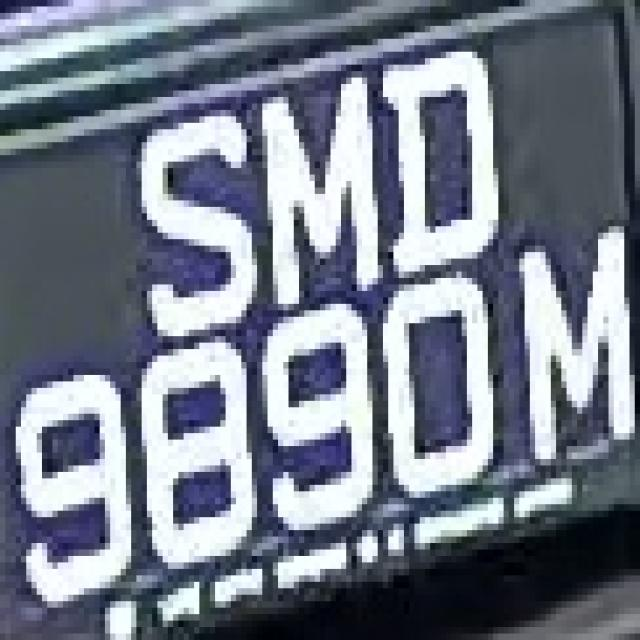0: (372, 258, 509, 524)
8: (126, 342, 262, 582)
9: (0, 349, 152, 621), (252, 291, 388, 536)
D: (378, 45, 509, 291)
M: (509, 226, 635, 478), (246, 84, 378, 304)
S: (121, 104, 262, 336)
